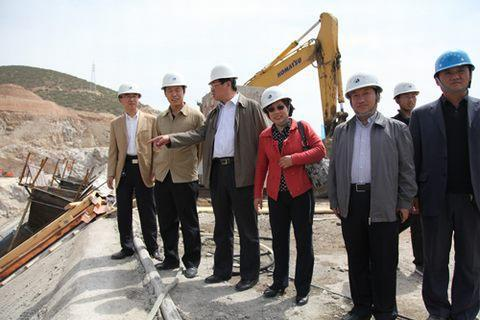helmet: (429, 43, 477, 99), (343, 66, 387, 116), (258, 83, 296, 130), (203, 59, 241, 104), (157, 66, 190, 107), (386, 78, 421, 113), (114, 77, 146, 115)
